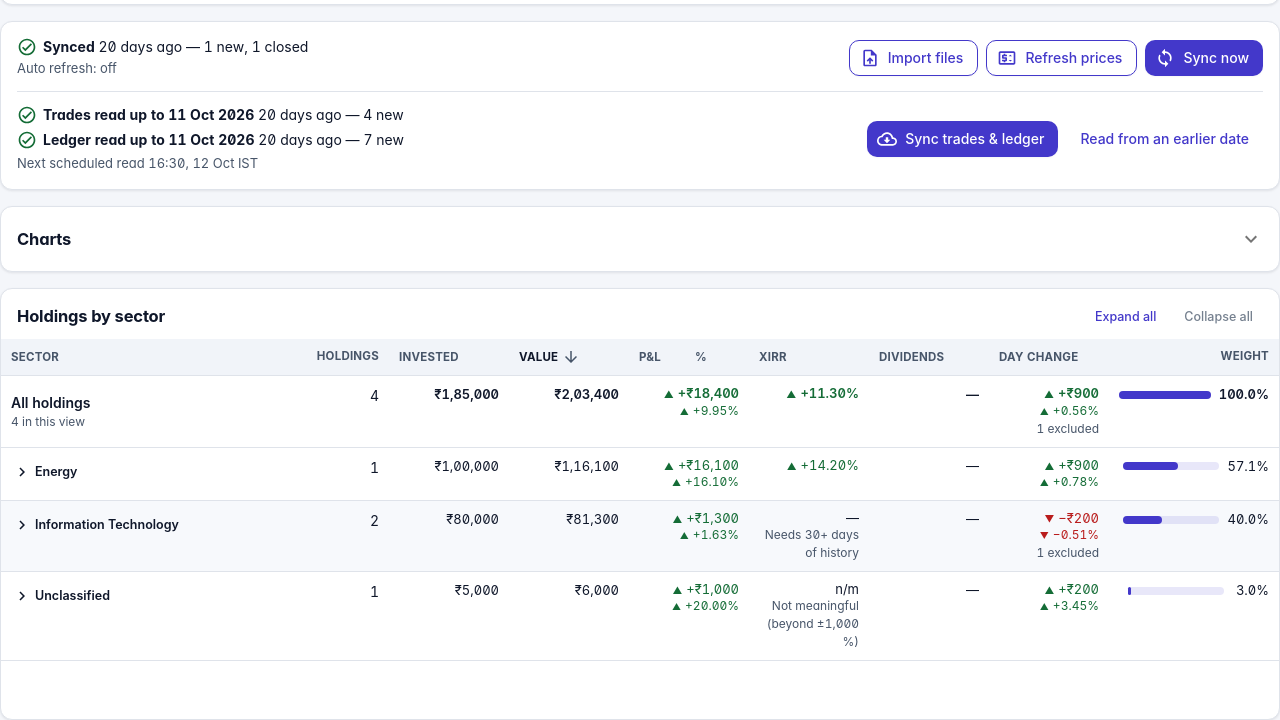
Test: Group by: opening a group › asks for the group "Unclassified" by the reserved key ~none
The image size is (1280, 720).
(page scrolled)
Click the button "Unclassified" at (62, 596), box x1=9 y1=581 x2=114 y2=611
(page scrolled)
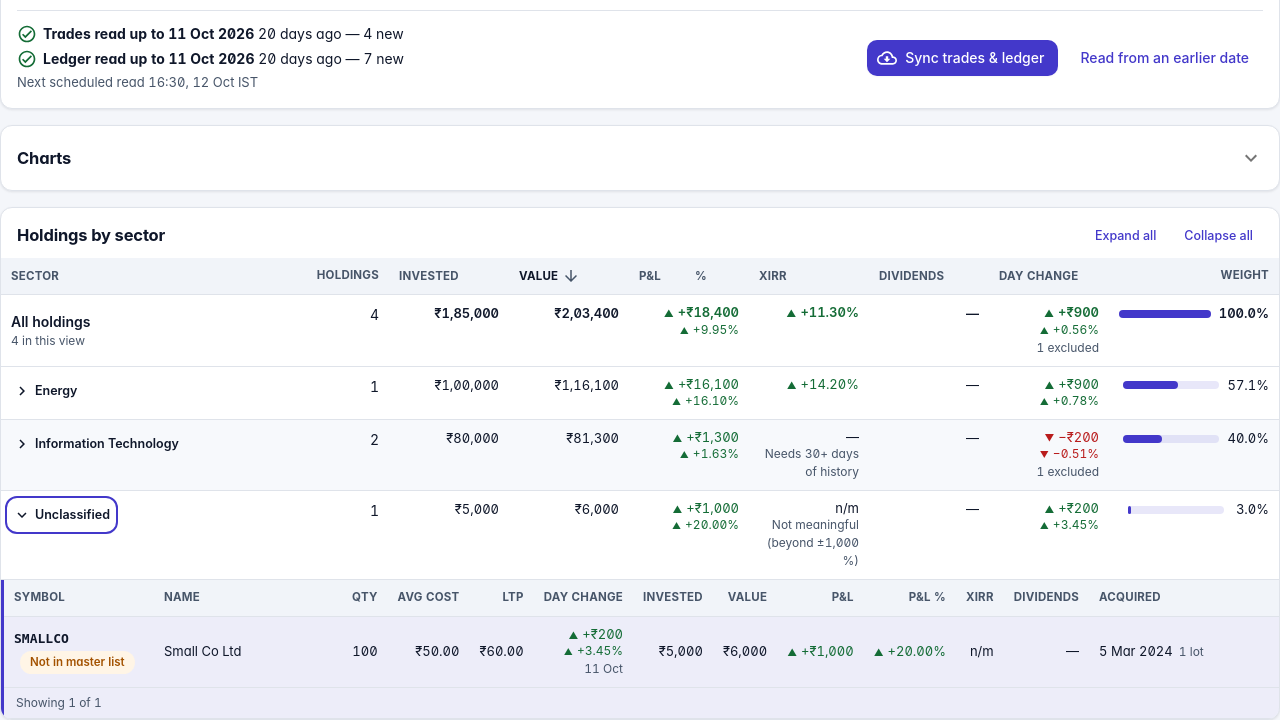
Expected: the cell "SMALLCO Not in master list" is shown, x1=4 y1=617 x2=154 y2=688
